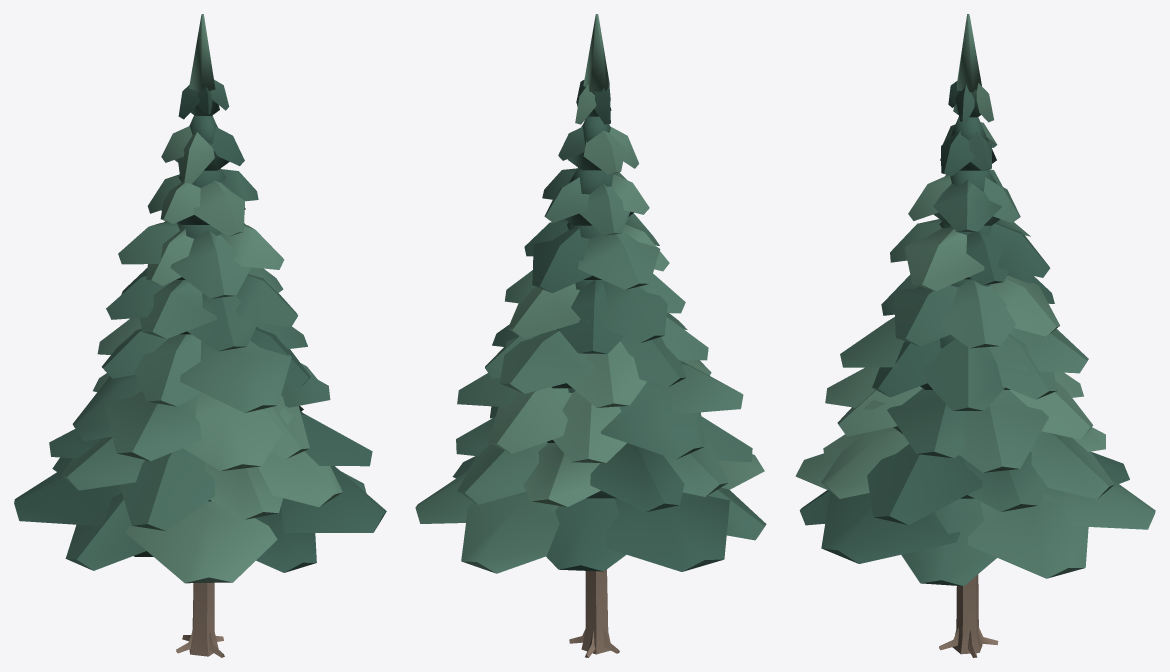
Rendered from spruce.far.glb.
3 views of the same model, side by side, from view 1: azimuth 30°, elevation 25°; view 2: azimuth 150°, elevation 25°; view 3: azimuth 270°, elevation 25° (orthographic).
Visible parts, largest first — view 1: spruce; view 2: spruce; view 3: spruce.
Part boxes in pixels (x1,y1,x2,y2): spruce: (14, 14, 386, 657); spruce: (415, 14, 766, 657); spruce: (795, 14, 1155, 657).
Bounding box in the file's own units: 5.25 × 10.5 × 5.41.
